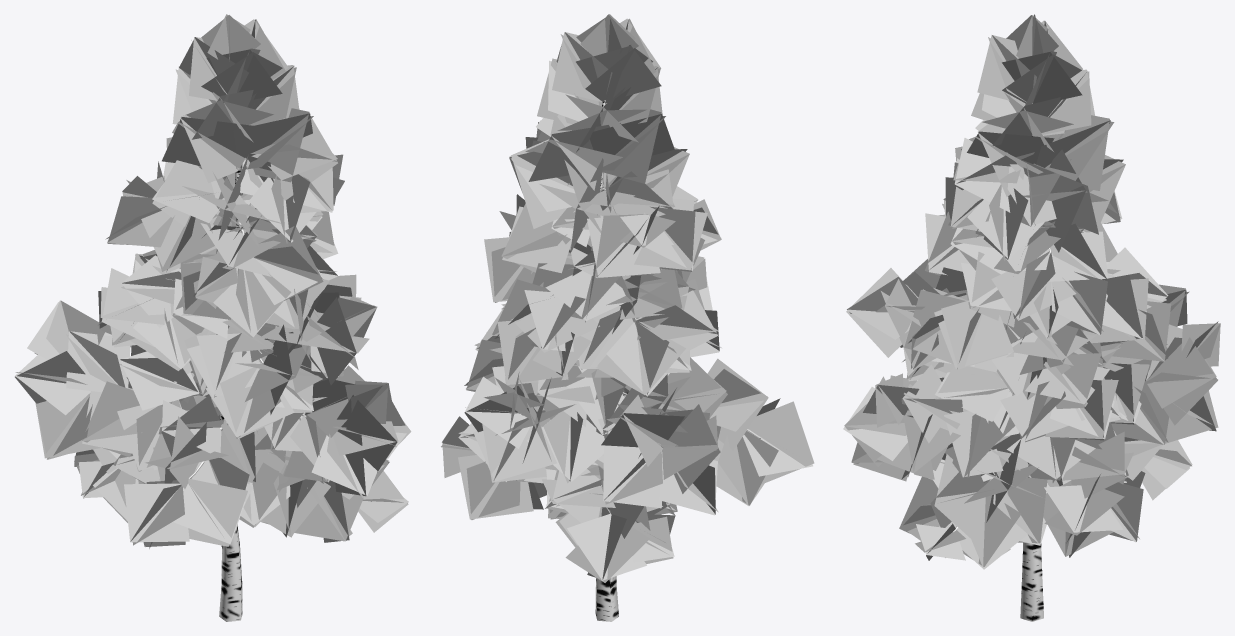
Rendered from Birch.fbx.
3 renders of one model, left to right at view 1: azimuth 30°, elevation 25°; view 2: azimuth 150°, elevation 25°; view 3: azimuth 270°, elevation 25°, orthographic.
Parts seen in each view (by area): view 1: Plane024, Plane025, Plane153, Plane152, Plane118, Plane043, Plane074, Plane048, Plane040, Plane044, Plane117, Plane134 (+55 smaller); view 2: Plane015, Plane084, Plane024, Plane153, Plane042, Plane064, Plane154, Plane040, Plane033, Plane110, Plane148, Plane066 (+47 smaller); view 3: Plane101, Plane063, Plane003, Plane154, Plane155, Plane111, Plane146, Plane032, Plane056, Plane125, Plane139, Plane092 (+54 smaller).
Part boxes in pixels (x1,y1,x2,y2): Plane024: [124, 483, 189, 545]; Plane025: [173, 478, 247, 546]; Plane153: [162, 115, 253, 183]; Plane152: [233, 108, 313, 182]; Plane118: [253, 226, 323, 304]; Plane043: [66, 331, 130, 392]; Plane074: [205, 363, 294, 438]; Plane048: [119, 351, 199, 410]; Plane040: [15, 351, 90, 415]; Plane044: [81, 381, 142, 457]; Plane117: [206, 268, 291, 337]; Plane134: [152, 160, 219, 226]; Plane015: [565, 513, 649, 582]; Plane084: [596, 320, 685, 396]; Plane024: [742, 401, 814, 484]; Plane153: [589, 109, 674, 183]; Plane042: [603, 440, 662, 508]; Plane064: [473, 418, 556, 482]; Plane154: [525, 115, 622, 190]; Plane040: [661, 404, 720, 493]; Plane033: [458, 455, 533, 519]; Plane110: [511, 290, 599, 352]; Plane148: [576, 45, 661, 103]; Plane066: [527, 411, 604, 483]; Plane101: [934, 300, 1013, 369]; Plane063: [1146, 337, 1217, 425]; Plane003: [939, 495, 1027, 569]; Plane154: [1036, 115, 1114, 190]; Plane155: [1011, 149, 1108, 252]; Plane111: [1083, 274, 1148, 345]; Plane146: [1002, 51, 1082, 105]; Plane032: [1044, 474, 1124, 543]; Plane056: [944, 411, 1003, 477]; Plane125: [991, 251, 1076, 321]; Plane139: [967, 184, 1044, 260]; Plane092: [1025, 353, 1109, 408].
Size of the model in its own units: 824 by 1536 by 876.
